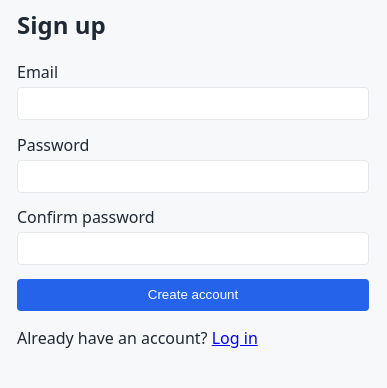
Test: SignupPage › blocks submit on an invalid email (negative)
The width and height of the screenshot is (387, 388).
Step 1. Type "not-an-email" into the field labelled "Email" → [193, 103], box [17,87,369,120]
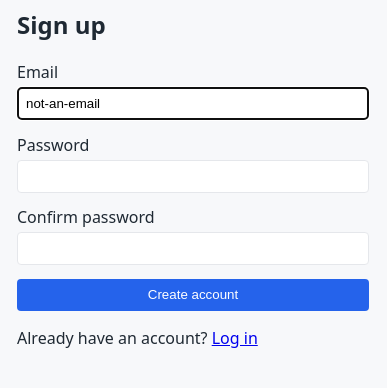
Step 2. Type "password1" into the password field labelled "Password" → [193, 176], box [17,160,369,192]
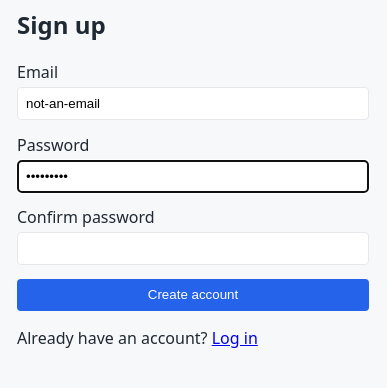
Step 3. Type "password1" into the password field labelled "Confirm password" → [193, 249], box [17,232,369,265]
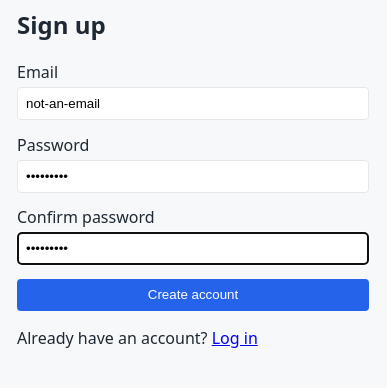
Step 4. Click the button "Create account" → [193, 295], box [17,279,369,311]
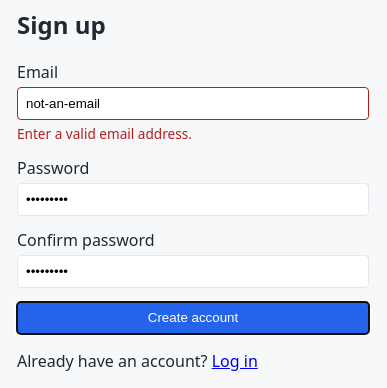
expect the text "Enter a valid email address." is shown: met, box [17,124,192,143]
